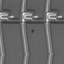dust: (29, 28, 35, 33)
